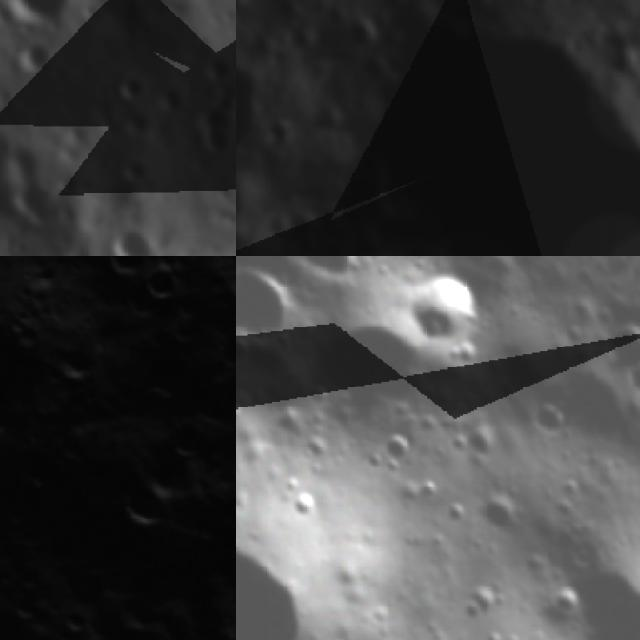crater: (317, 21, 640, 256), (375, 257, 495, 368), (0, 278, 63, 456), (236, 257, 308, 356), (99, 467, 181, 548), (0, 426, 76, 507), (597, 316, 640, 410), (518, 391, 582, 454), (131, 256, 194, 314), (84, 603, 182, 640), (160, 415, 216, 470), (473, 487, 528, 543), (549, 574, 603, 627), (296, 256, 375, 291), (84, 256, 153, 293), (374, 424, 420, 474), (0, 0, 80, 21), (212, 256, 236, 314), (111, 224, 148, 256), (290, 237, 321, 256)
